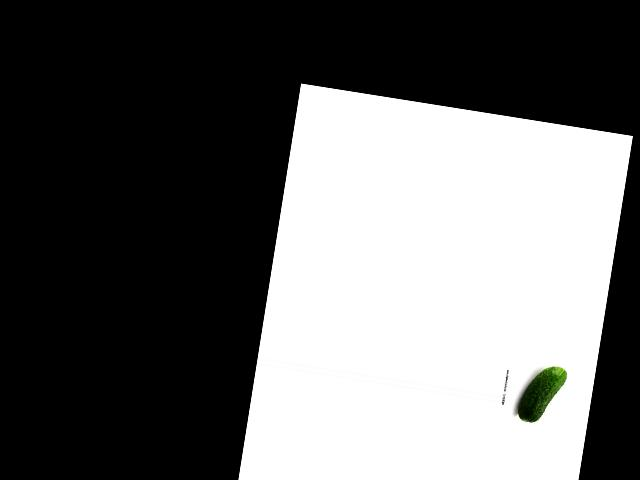cucumber: (516, 362, 568, 427)
